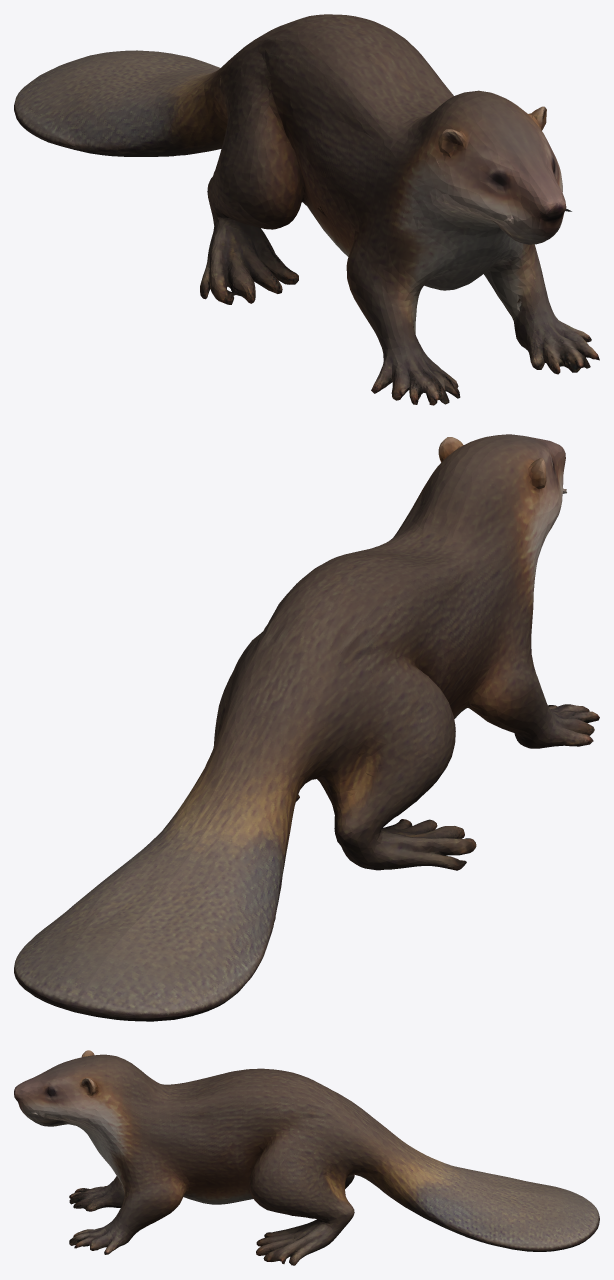
3 views of the same model, one above another, from view 1: azimuth 30°, elevation 25°; view 2: azimuth 150°, elevation 25°; view 3: azimuth 270°, elevation 25° (orthographic). The views are drawn at different scales.
Parts seen in each view (by area): view 1: world; view 2: world; view 3: world.
Boxes of the visible parts, box(x1,y1,x2,y2) form: world: box(14, 14, 599, 405); world: box(14, 434, 599, 1021); world: box(14, 1050, 599, 1265).
Size of the model in its own units: 0.1523 by 0.1546 by 0.48.
Materials: 1 (1 with a texture image).
